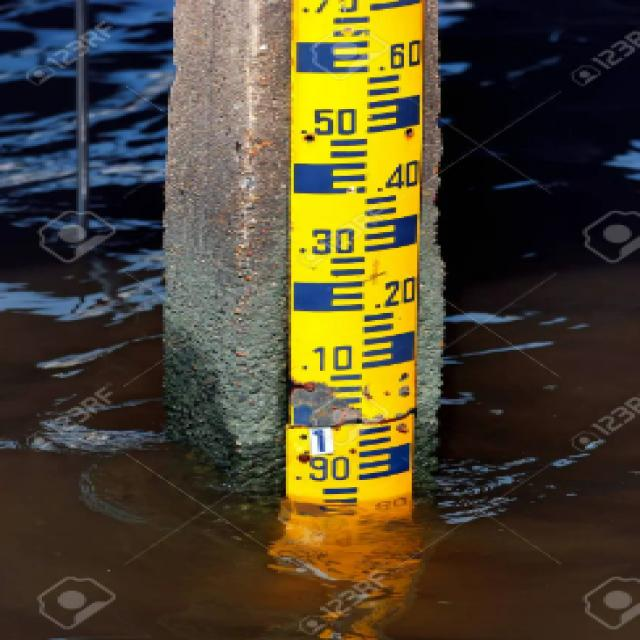ruler: (258, 0, 477, 528)
value: (294, 100, 361, 140), (367, 154, 427, 198), (292, 224, 364, 259), (296, 340, 364, 376), (368, 272, 424, 312), (374, 34, 428, 74), (290, 454, 358, 484), (307, 426, 334, 454)
